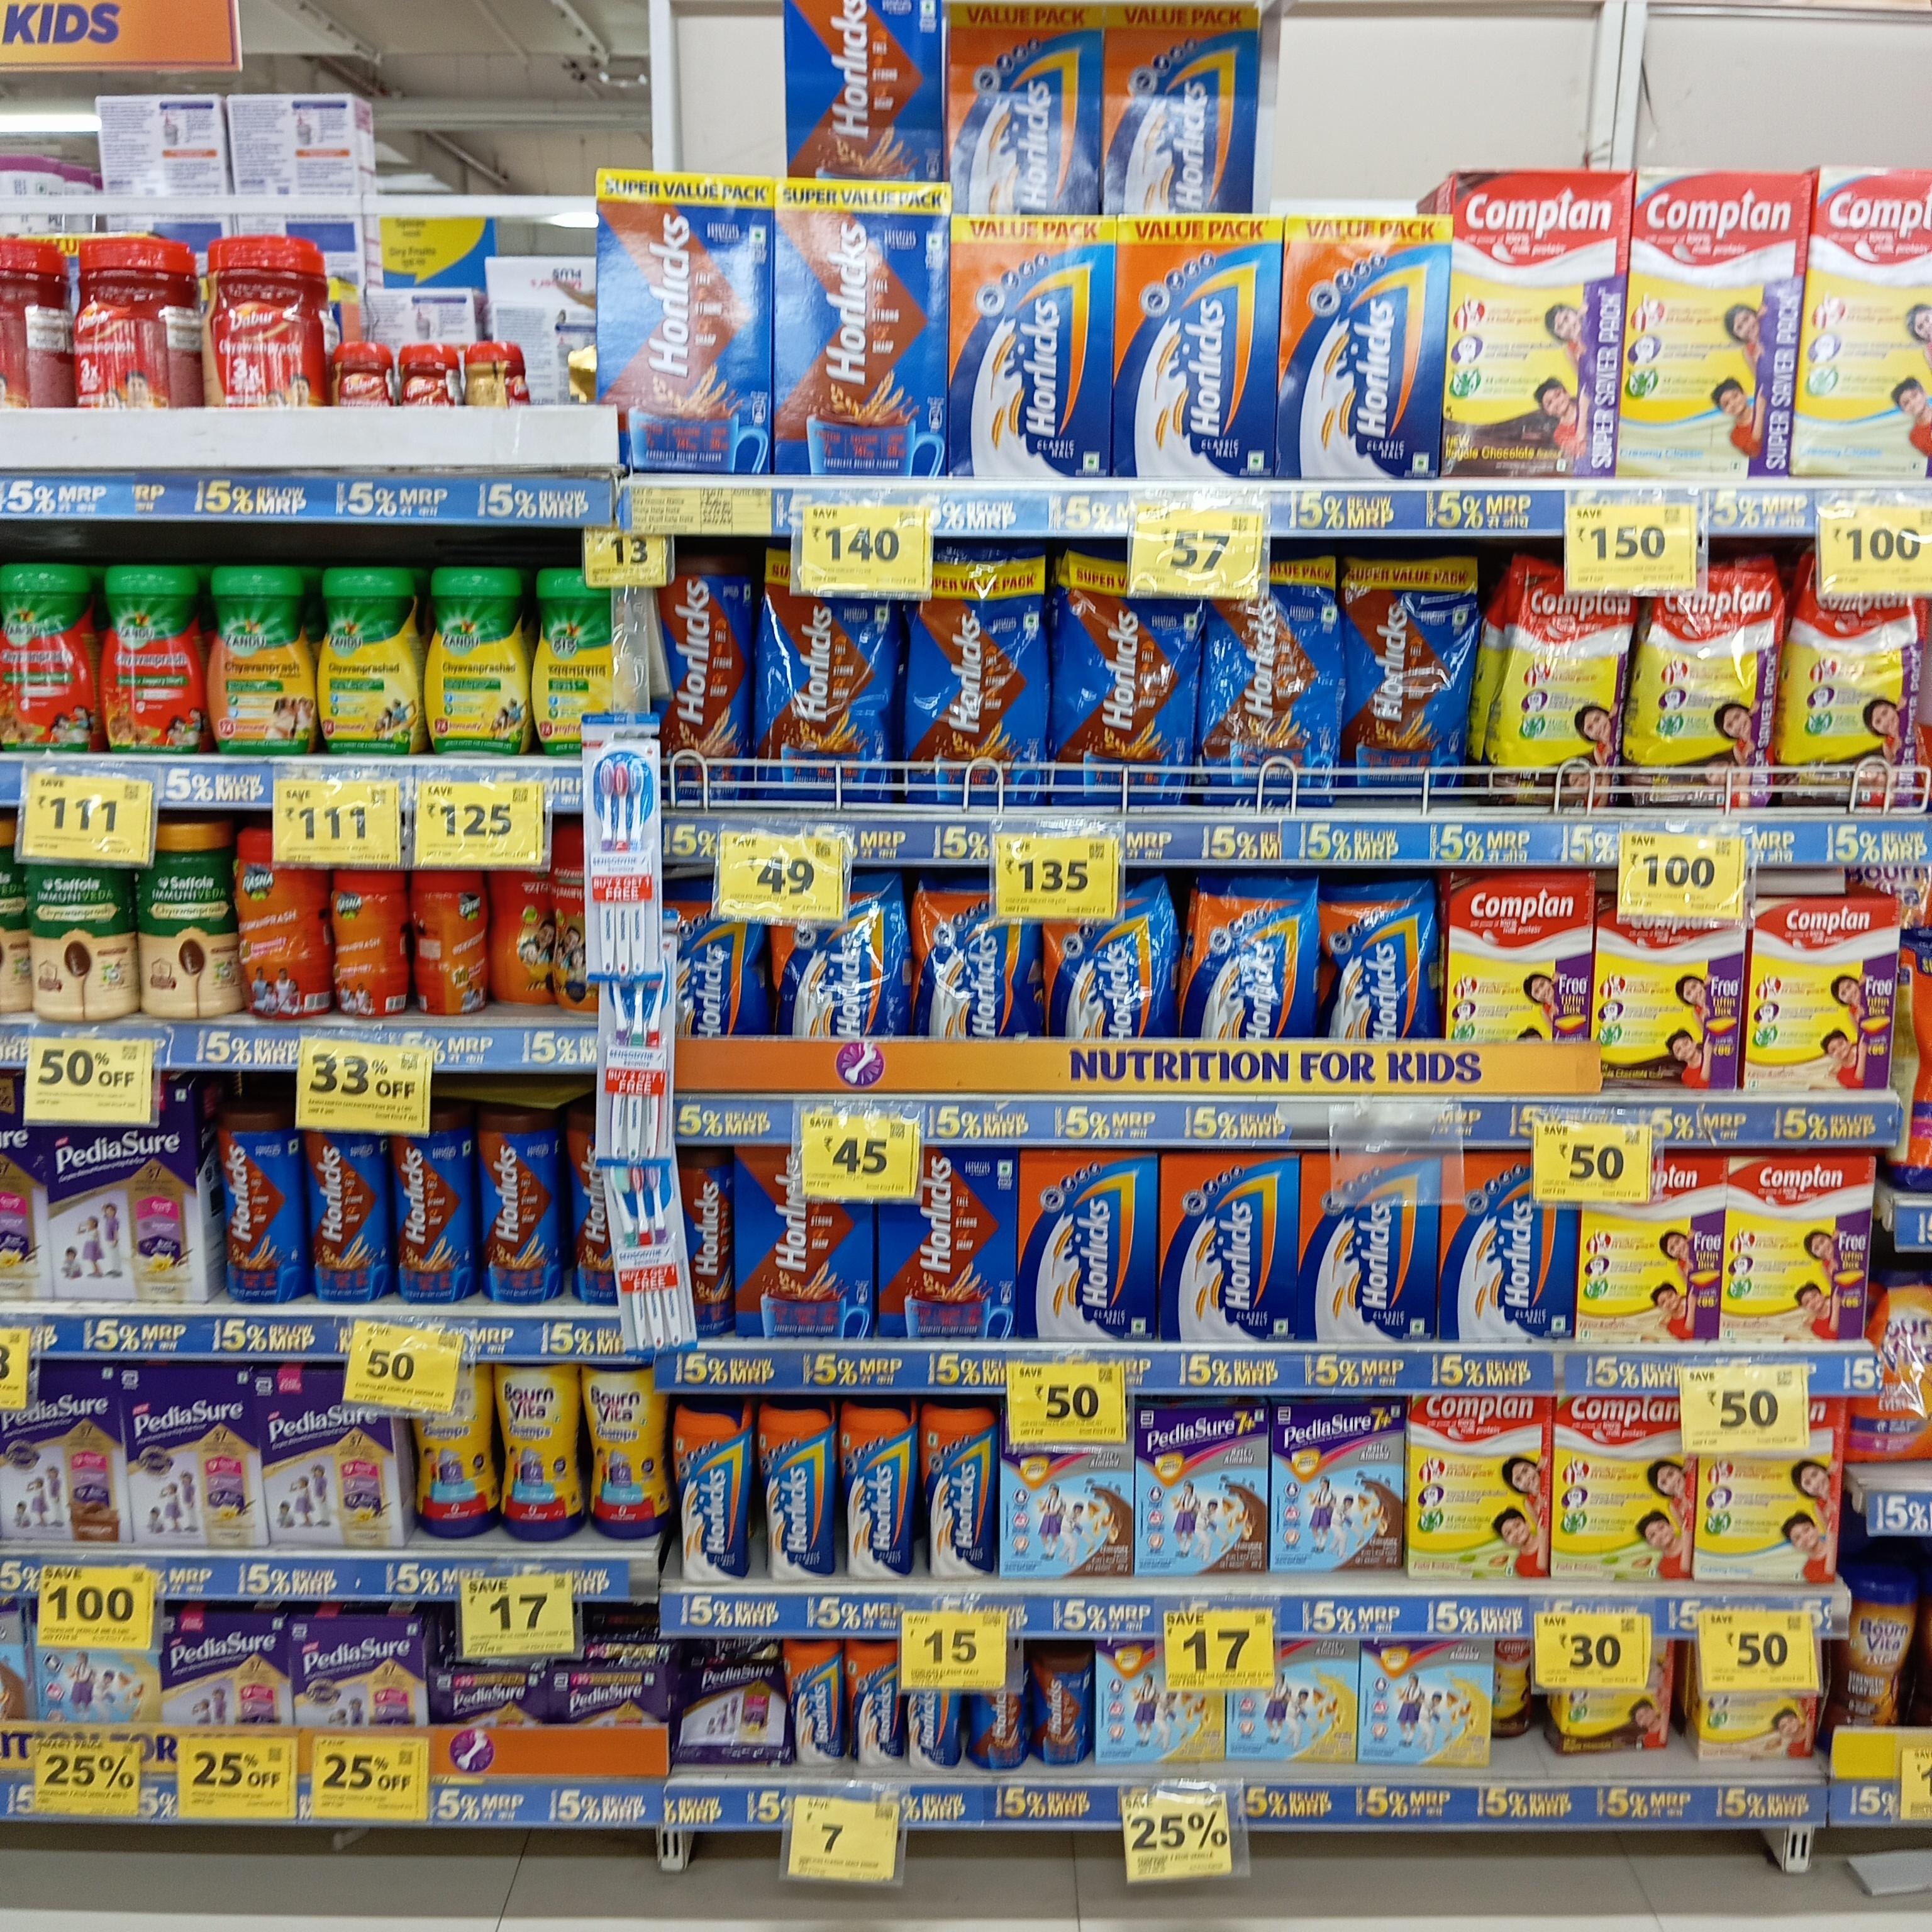BOURN_VITA_CHAMPS_500_G_JAR: (488, 1357, 573, 1537), (584, 1369, 658, 1536)
BOURN_VITA_FIVE_STAR_MAGIC_500_G_JAR: (1854, 1578, 1918, 1732)
COMPLAN_CHOCOLATE_1_KG_PACK: (1445, 168, 1624, 479)
COMPLAN_CHOCOLATE_500_GMS_PACK: (1596, 916, 1739, 1092), (1449, 869, 1587, 1044)
COMPLAN_CREAMY_CLASSIC_500_G_PACK: (1698, 1445, 1847, 1589)
COMPLAN_KESAR_BADAM_500_GMS_PACK: (1746, 895, 1898, 1097), (1730, 1154, 1870, 1348), (1582, 1168, 1725, 1350)
COMPLAN_PISTA_BADAM_500_GMS_PACK: (1555, 1389, 1691, 1580), (1410, 1394, 1550, 1580)
COMPLAN_RC_POUCH_700_GMS_12: (1645, 579, 1782, 814), (1787, 586, 1923, 817), (1506, 570, 1628, 810)
HORLICK_CHOCOLATE_1_KG_JAR: (662, 552, 745, 805)
HORLICK_CHOCOLATE_1_KG_PACK: (600, 168, 768, 472), (775, 180, 943, 476)
HORLICK_CHOCOLATE_200_G_JAR: (1033, 1651, 1086, 1773)
HORLICK_CHOCOLATE_500_G_JAR: (391, 1109, 472, 1302), (218, 1115, 299, 1307), (479, 1111, 556, 1307), (308, 1127, 382, 1304), (674, 1154, 734, 1339), (564, 1109, 612, 1307)
HORLICK_CHOCOLATE_500_G_PACK: (881, 1152, 1019, 1345), (736, 1141, 858, 1341)
HORLICK_CHOCOLATE_750_G_POUCH: (915, 547, 1049, 810), (1205, 556, 1343, 801), (761, 568, 890, 809), (1067, 561, 1192, 807), (1345, 556, 1458, 800)
HORLICK_CLASSIC_MALT_200_G_JAR: (844, 1638, 904, 1767), (787, 1637, 837, 1775)
HORLICK_CLASSIC_MALT_500_G_JAR: (840, 1399, 918, 1583), (755, 1405, 833, 1587), (674, 1401, 747, 1587), (920, 1401, 991, 1578)
HORLICK_CLASSIC_MALT_500_G_PACK: (952, 219, 1113, 479), (1122, 211, 1276, 479), (1284, 214, 1440, 478), (948, 0, 1099, 209), (1106, 0, 1251, 209), (1440, 1152, 1571, 1345), (1164, 1154, 1299, 1341), (1024, 1150, 1154, 1339), (1304, 1154, 1433, 1336)
HORLICK_CLASSIC_MALT_750_G_POUCH: (1192, 878, 1318, 1033), (1327, 878, 1440, 1046), (784, 885, 908, 1037), (915, 885, 1037, 1035), (1053, 902, 1175, 1035)
PEDIASURE_7_PLUS_CHOCOLATE_400_G_PACK: (1276, 1405, 1399, 1576), (1138, 1405, 1261, 1573), (1001, 1442, 1138, 1575)
PEDIASURE_CHOCOLATE_500_G_PACK: (0, 1366, 129, 1550)
PEDIASURE_VANILLA_500_G_PACK: (37, 1118, 202, 1299), (264, 1368, 395, 1546), (127, 1368, 255, 1546)
